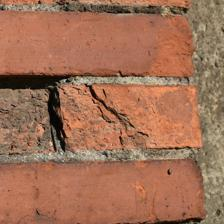Crack: (42, 44, 110, 105)
